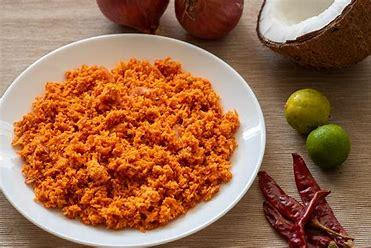Pol Sambol: (17, 30, 237, 226)
